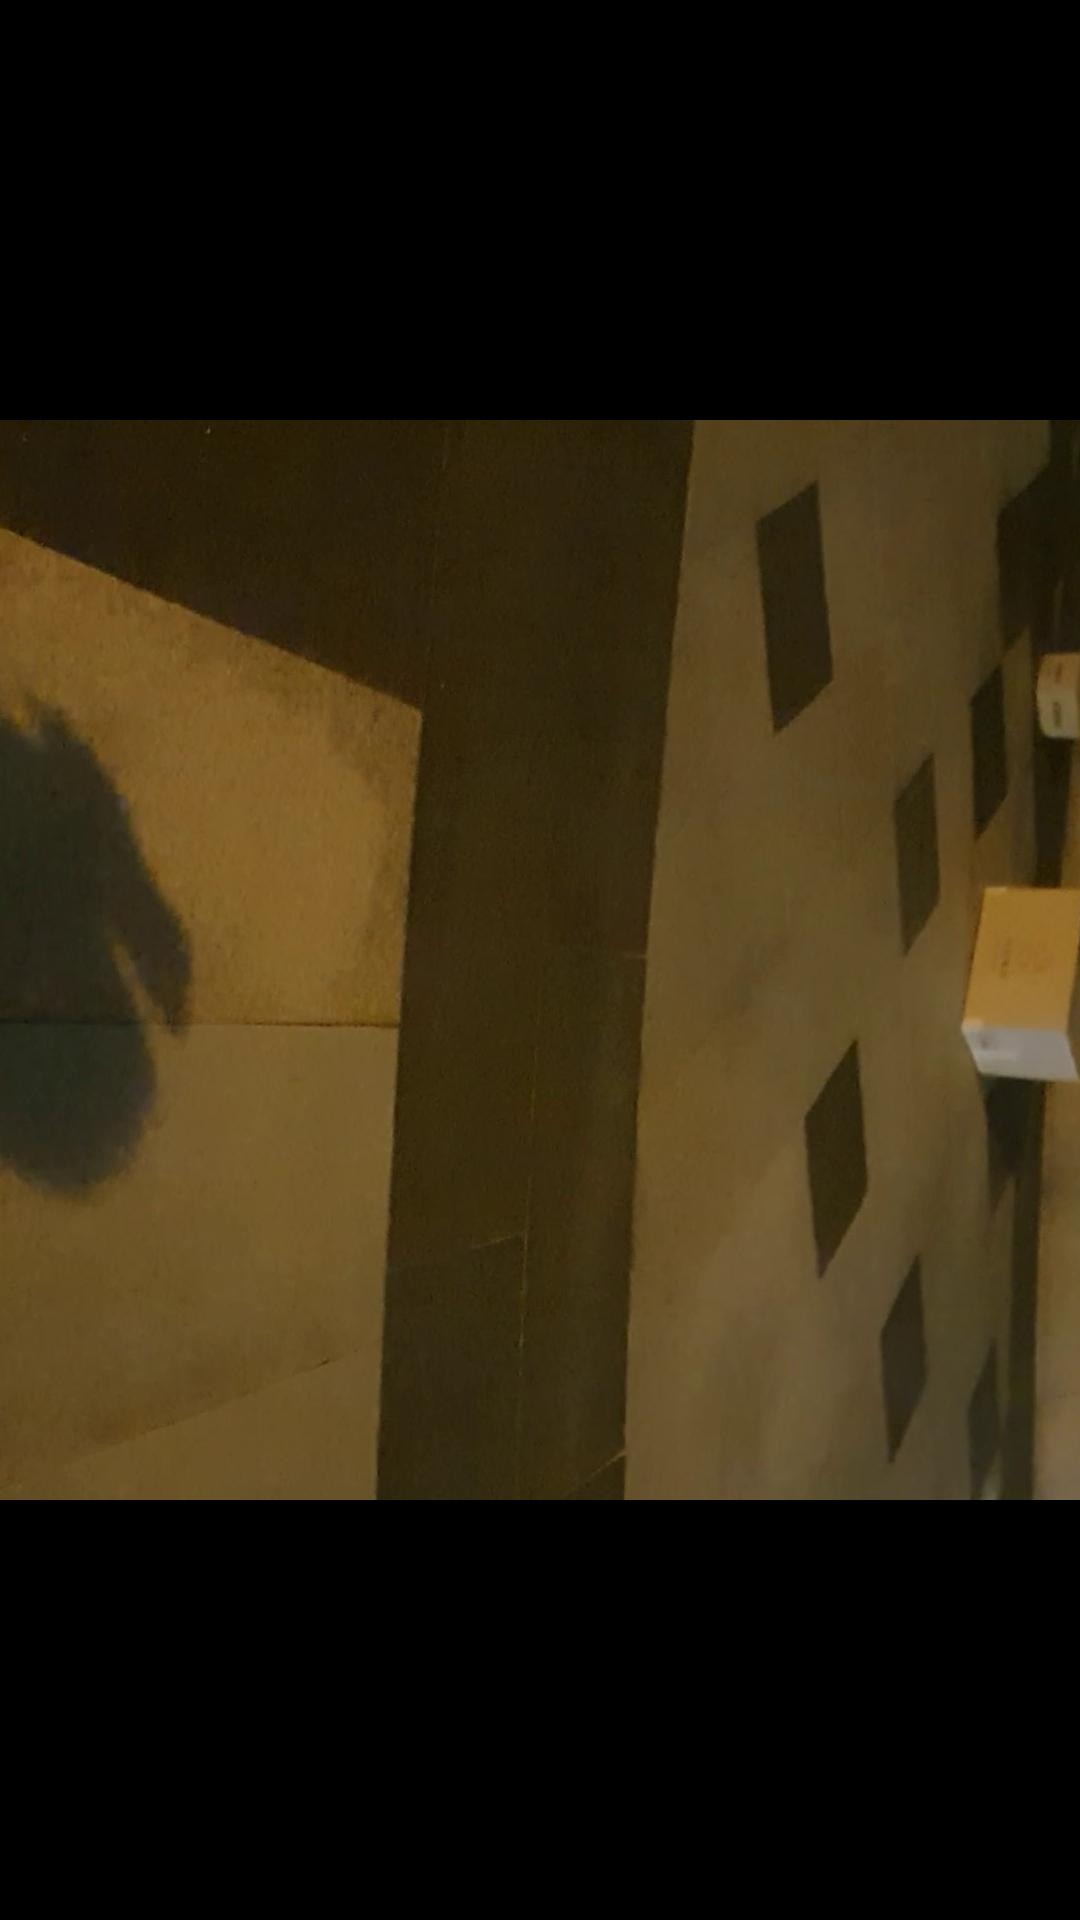Box: (948, 884, 1080, 1087), (1027, 647, 1080, 750)
